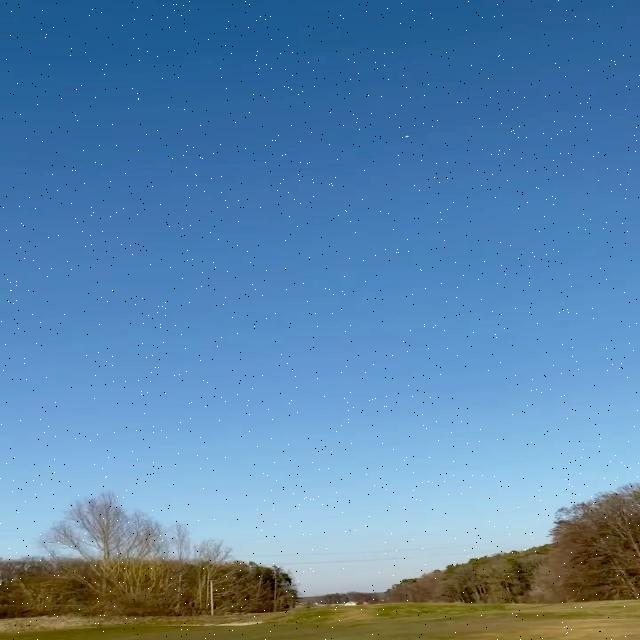golf ball: (405, 135, 410, 138)
